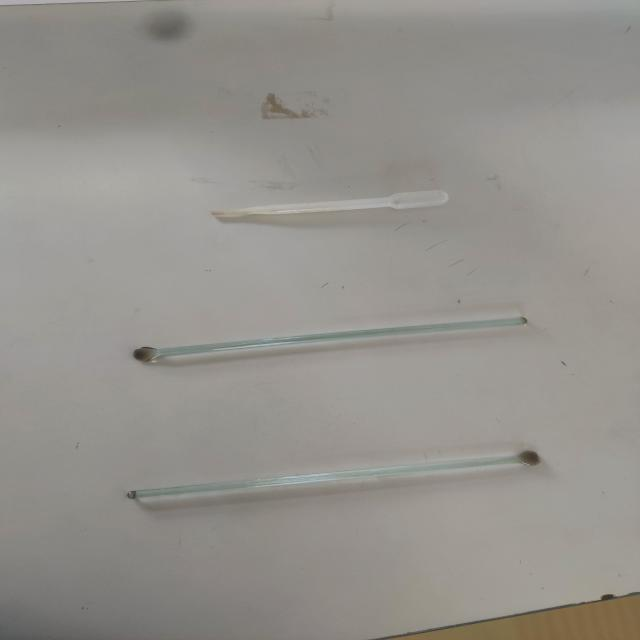Glass_Rod: (103, 415, 553, 538), (111, 288, 572, 382)
Pipette: (186, 172, 514, 244)
